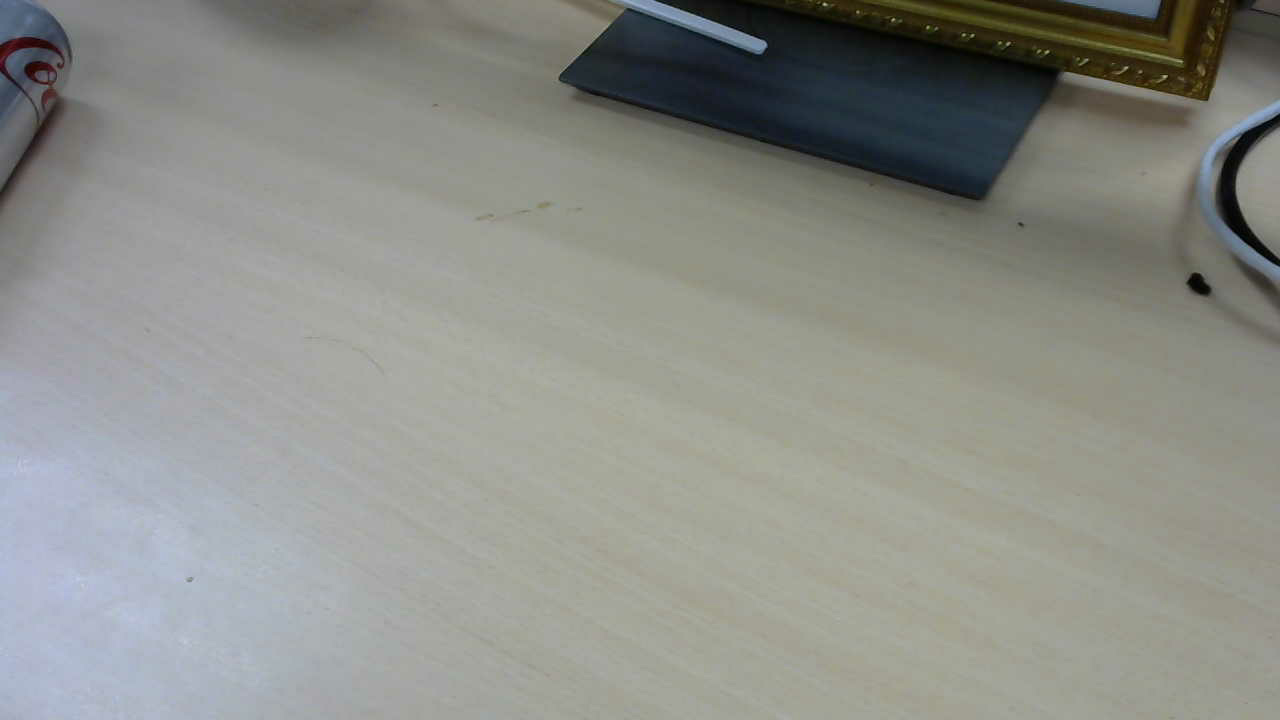Coca_Cola: (6, 7, 80, 202)
